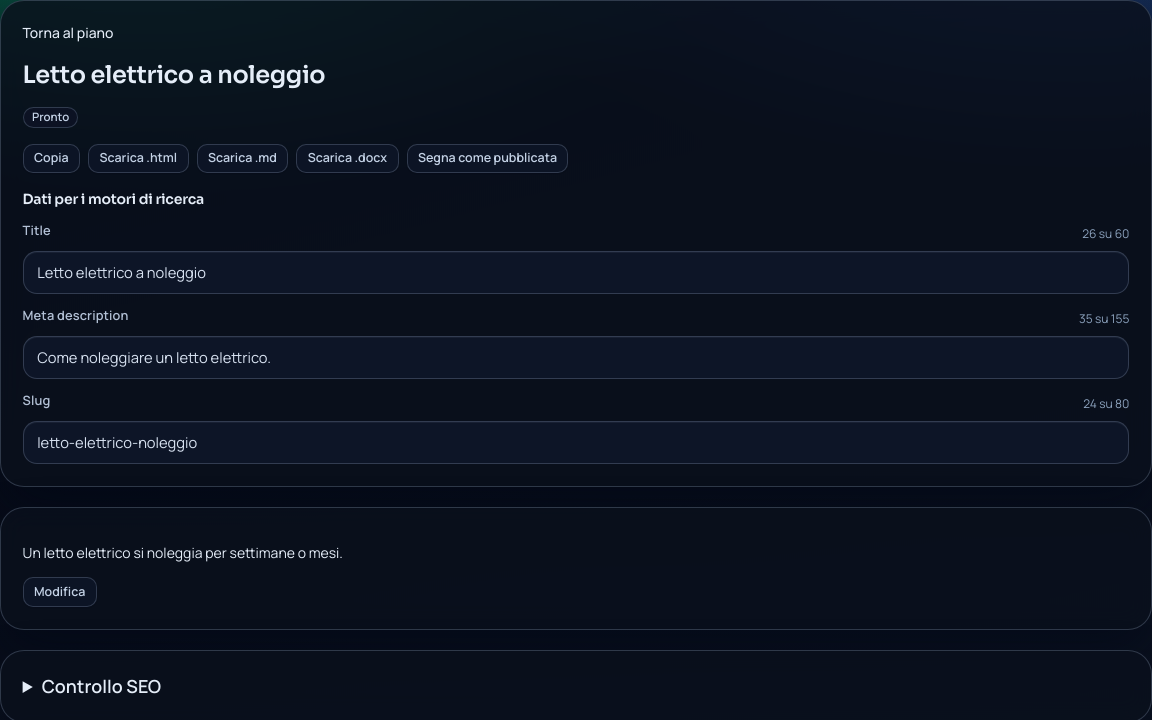
it: «Segna come pubblicata» › un indirizzo rifiutato dal server resta nella finestra con il testo del catalogo
Step 1. Click the button "Segna come pubblicata" → (487,158), box [406, 144, 568, 173]
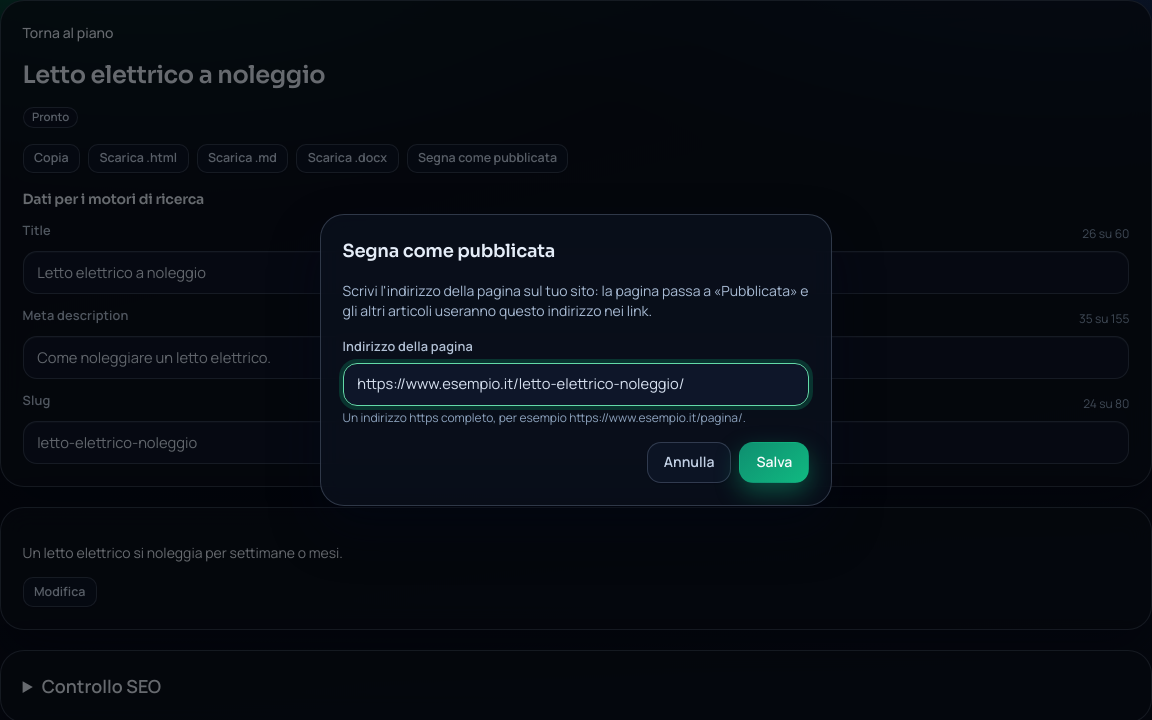
Step 2. Replace the text in the field labelled "Indirizzo della pagina" with "ftp://esempio.it" → (576,384), box [343, 362, 809, 406]
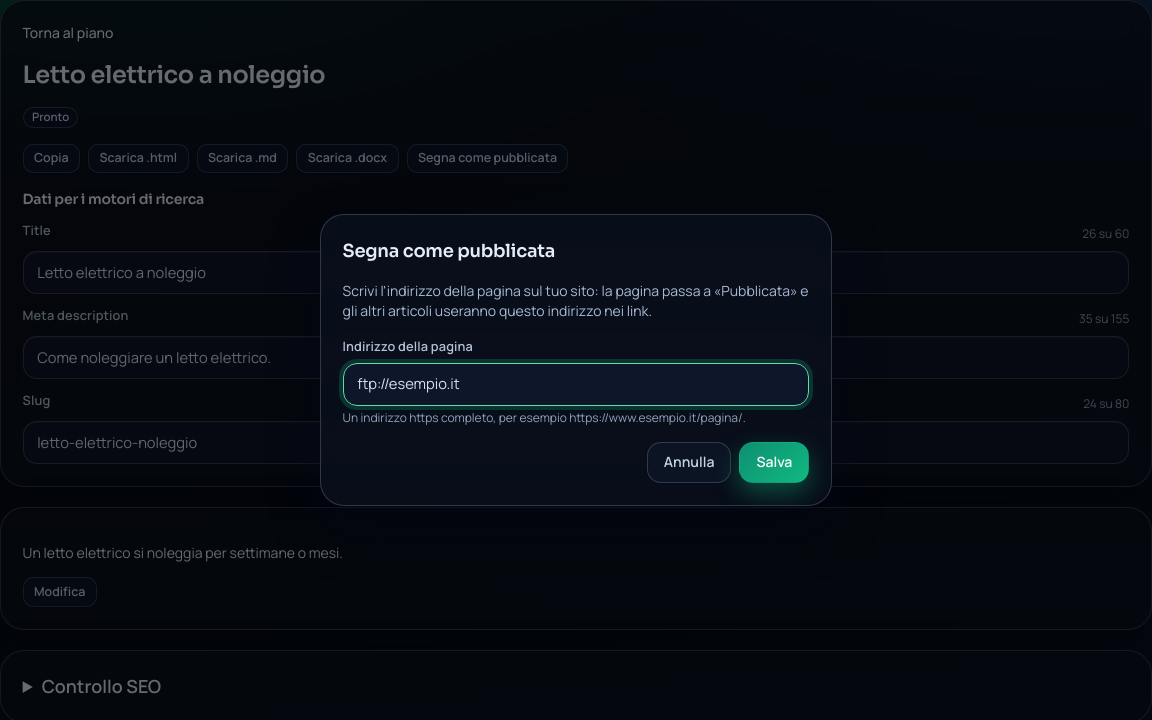
Step 3. Click the button "Salva" → (774,462), box [739, 442, 809, 483]
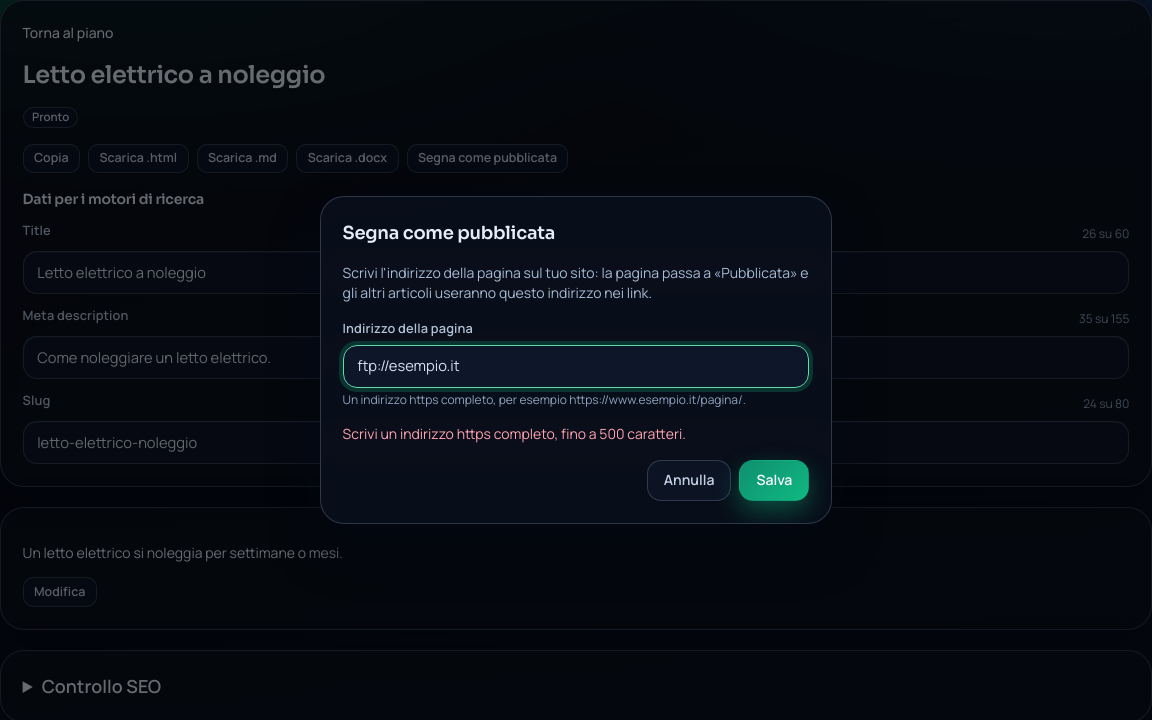
Expected: the message reads "Scrivi un indirizzo https completo, fino a 500 caratteri.", [343, 424, 686, 443]
